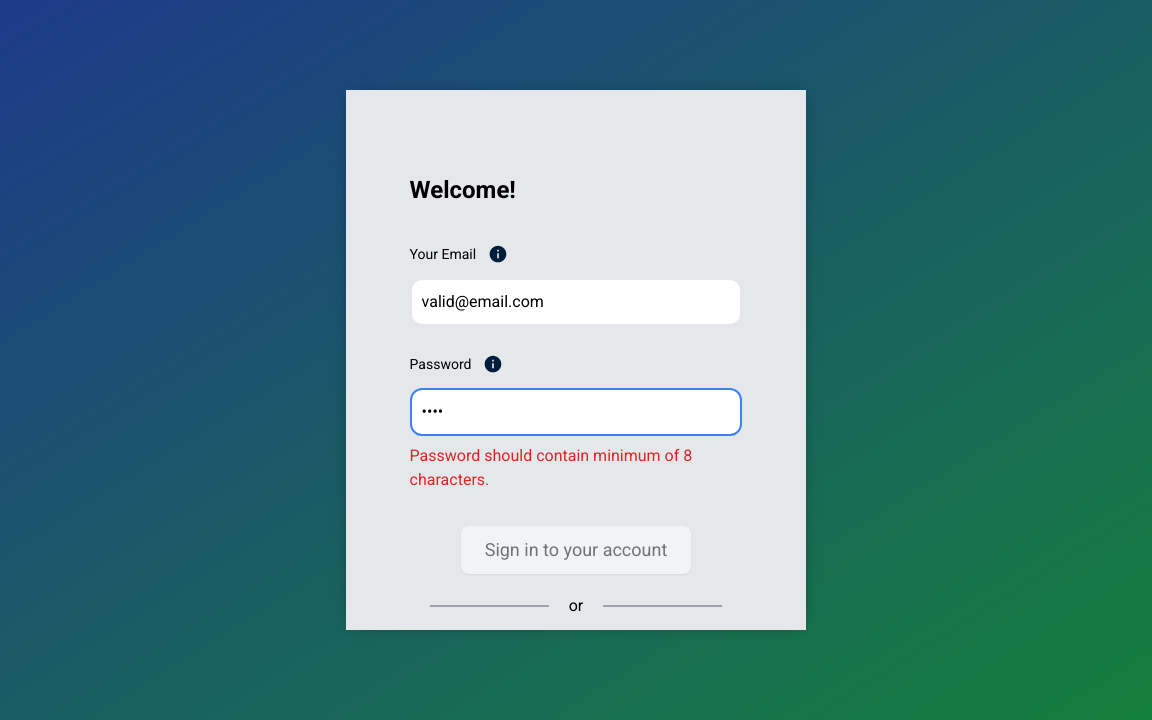
Test case: React Social App › Login Page › Password Input › Add characters without breaking any validation rules and exceed maximum character limit, it should return maximum character validation error
Type "1234567890!@#$%^&*()_+" into the password field at (577, 412), box 410,388 -> 743,436
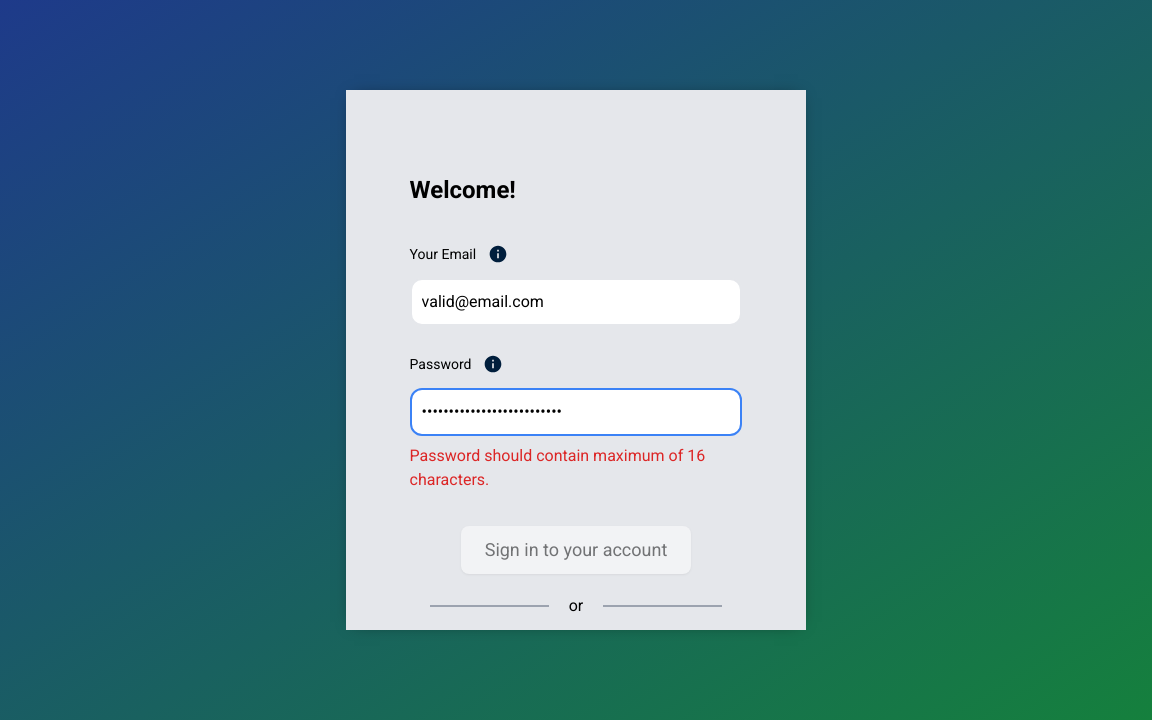
Check: the text "Password should contain maximum of 16 characters." is shown, box 410,436 -> 742,492
